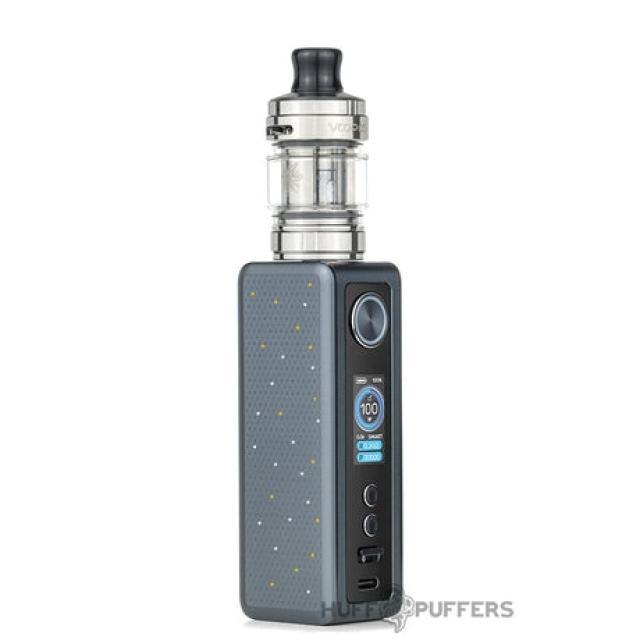Vapes: (235, 46, 405, 626)
